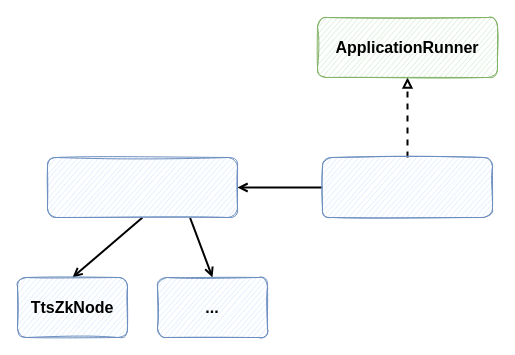
Some shapes in this 515 by 355 pixel diagram are drawn without their labels. Here are the shapes that lost their labels. From the top down, the centre of each, then its label:
point (142, 187): IovTaskRunnerService
point (407, 187): TtsNodeTaskRunner
